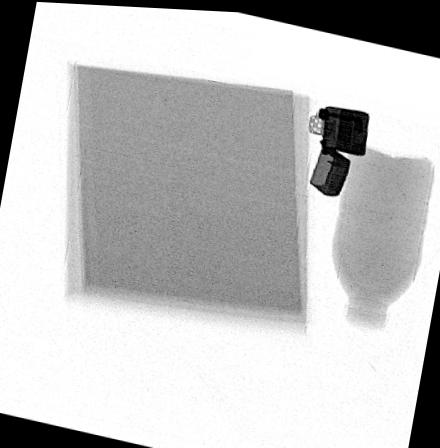Lighter: (307, 101, 369, 192)
